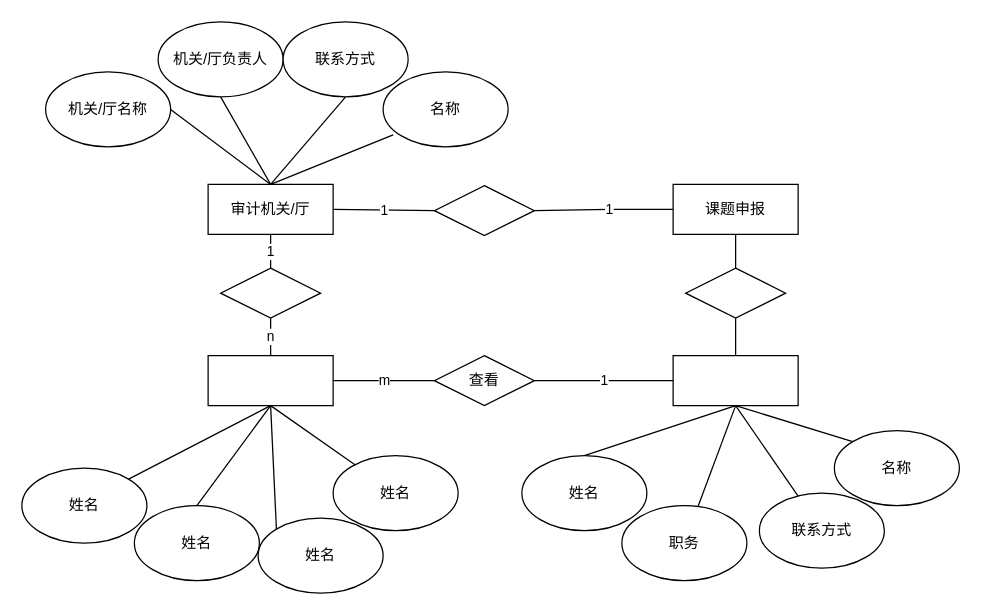
The diagram is 981 pixels wide and 615 high, and some of its shapes have lost their labels. The shapes that lost their labels are listed below. From the top down, each one's box as (x1, y1, x2, y2) in pixels, then its label:
(433, 184, 534, 236): 审核
(219, 267, 321, 318): 发布
(684, 267, 786, 318): 填写
(207, 354, 333, 406): 审计课题
(672, 354, 798, 406): 内审人员
